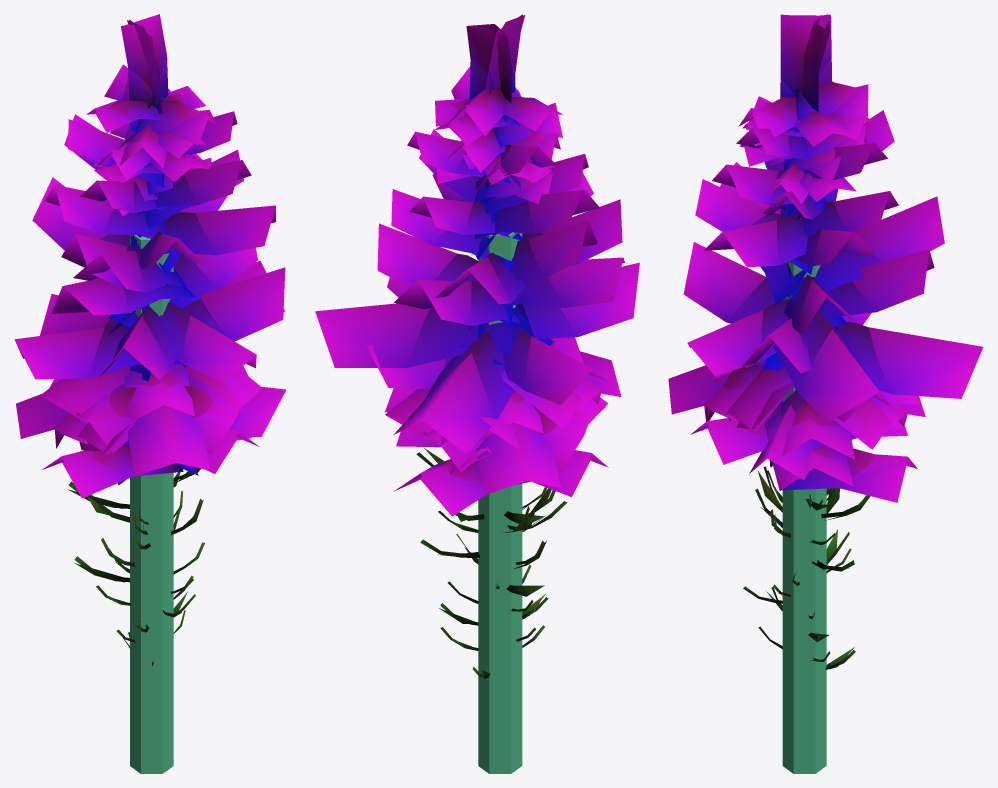
File: pine_radiata_small.dae
The picture shows the model from 3 angles, left to right: view 1: azimuth 30°, elevation 25°; view 2: azimuth 150°, elevation 25°; view 3: azimuth 270°, elevation 25°; orthographic projection.
Visible parts, largest first — view 1: pine_radiata_small_a170, pine_radiata_small_a420, Colmesh-1; view 2: pine_radiata_small_a170, pine_radiata_small_a420, Colmesh-1; view 3: pine_radiata_small_a170, pine_radiata_small_a420, Colmesh-1.
Part boxes in pixels (x1,y1,x2,y2): pine_radiata_small_a170: [14, 14, 285, 648]; pine_radiata_small_a420: [15, 14, 285, 666]; Colmesh-1: [130, 235, 173, 773]; pine_radiata_small_a170: [315, 14, 639, 678]; pine_radiata_small_a420: [315, 15, 639, 677]; Colmesh-1: [478, 232, 522, 773]; pine_radiata_small_a170: [668, 15, 982, 669]; pine_radiata_small_a420: [675, 14, 983, 669]; Colmesh-1: [782, 261, 826, 773].
Bounding box in the file's own units: 3.45 × 3.58 × 9.36.
